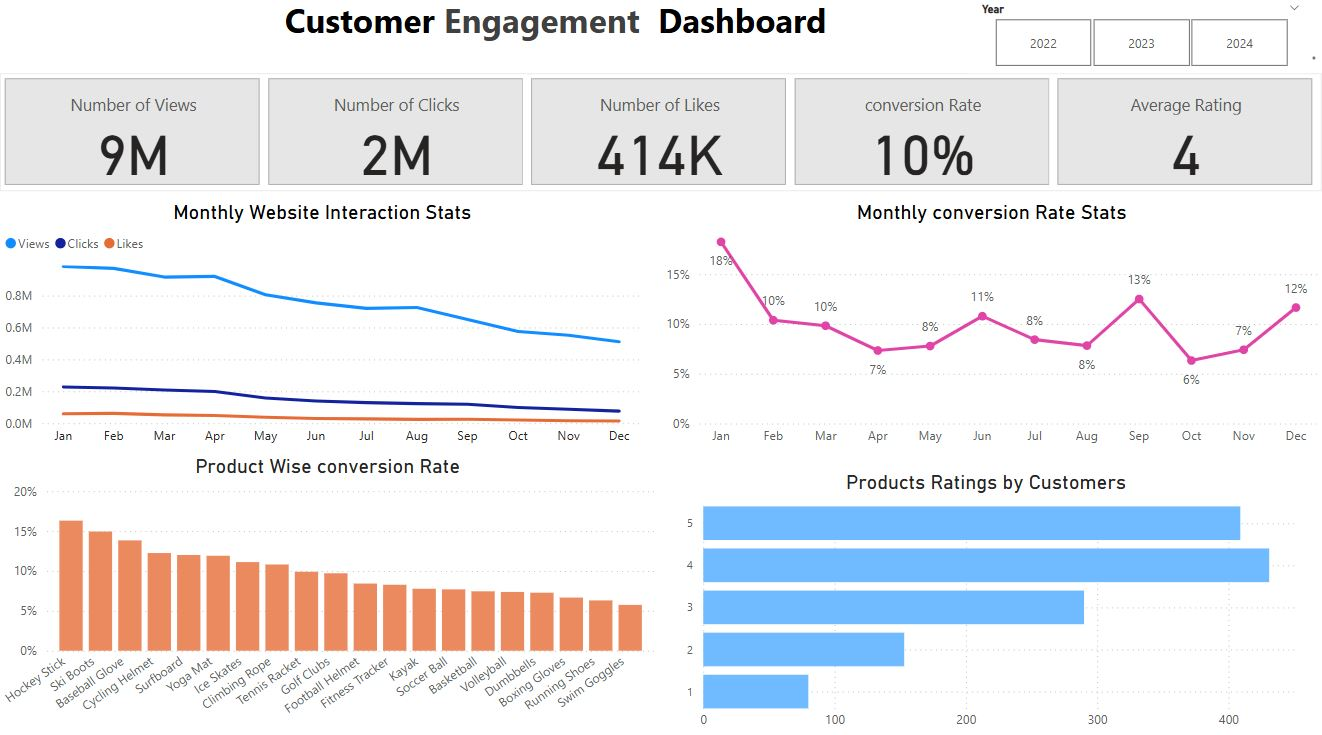

The page's visual inventory and layout, read from the dashboard file:
{"tool":"powerbi","page":{"name":"Main","canvas":[1280,720],"ordinal":0},"visuals":[{"type":"textbox","box":[10,0,280,280],"z":0},{"type":"textbox","box":[0,0,1001,78.4],"z":1000},{"type":"cardVisual","fields":{"Data":["Calculations.Number of Views","Calculations.Number of Clicks","Calculations.Number of Likes","Calculations.Conversation Rate","Calculations.Average Rating"]},"box":[3.8,78.4,1276.5,113.7],"z":2000},{"type":"lineChart","title":"Monthly conversion Rate Stats","fields":{"Category":["Calendar.MonthNameShort"],"Y":["Calculations.Conversation Rate"]},"box":[642,200.9,638.2,245.2],"z":3000},{"type":"lineChart","title":"Month wise Social Media Interaction Stats","fields":{"Y":["Calculations.Number of Views","Calculations.Number of Clicks","Calculations.Number of Likes"],"Category":["Calendar.MonthNameShort"]},"box":[3.6,201.5,622.5,244.9],"z":4000},{"type":"columnChart","title":"Product Wise conversion Rate","fields":{"Category":["Product_Dim.product_Name"],"Y":["Calculations.Conversation Rate"]},"box":[0,446,640.1,267.6],"z":5000},{"type":"slicer","fields":{"Values":["Calendar.Year"]},"box":[938,5.1,332.1,73.5],"z":6000},{"type":"barChart","title":"Products Ratings by Customers","fields":{"Y":["Calculations.Number of Customer Reviews"],"Category":["Fact_Customer_Sentiment.rating"]},"box":[642.6,461.9,625.1,258.6],"z":7000}]}

Visuals, with their boxes in screenshot pixels (x1, y1, x2, y2), scaled from the page's 1280x720 canvas onto the 1322x735 screenshot:
textbox: 10/0/300/286
textbox: 0/0/1034/80
cardVisual - Calculations.Number of Views x Calculations.Number of Clicks: 4/80/1321/196
"Monthly conversion Rate Stats" lineChart: 663/205/1321/455
"Month wise Social Media Interaction Stats" lineChart: 4/206/647/456
"Product Wise conversion Rate" columnChart: 0/455/661/728
slicer - Calendar.Year: 969/5/1312/80
"Products Ratings by Customers" barChart: 664/472/1309/734
